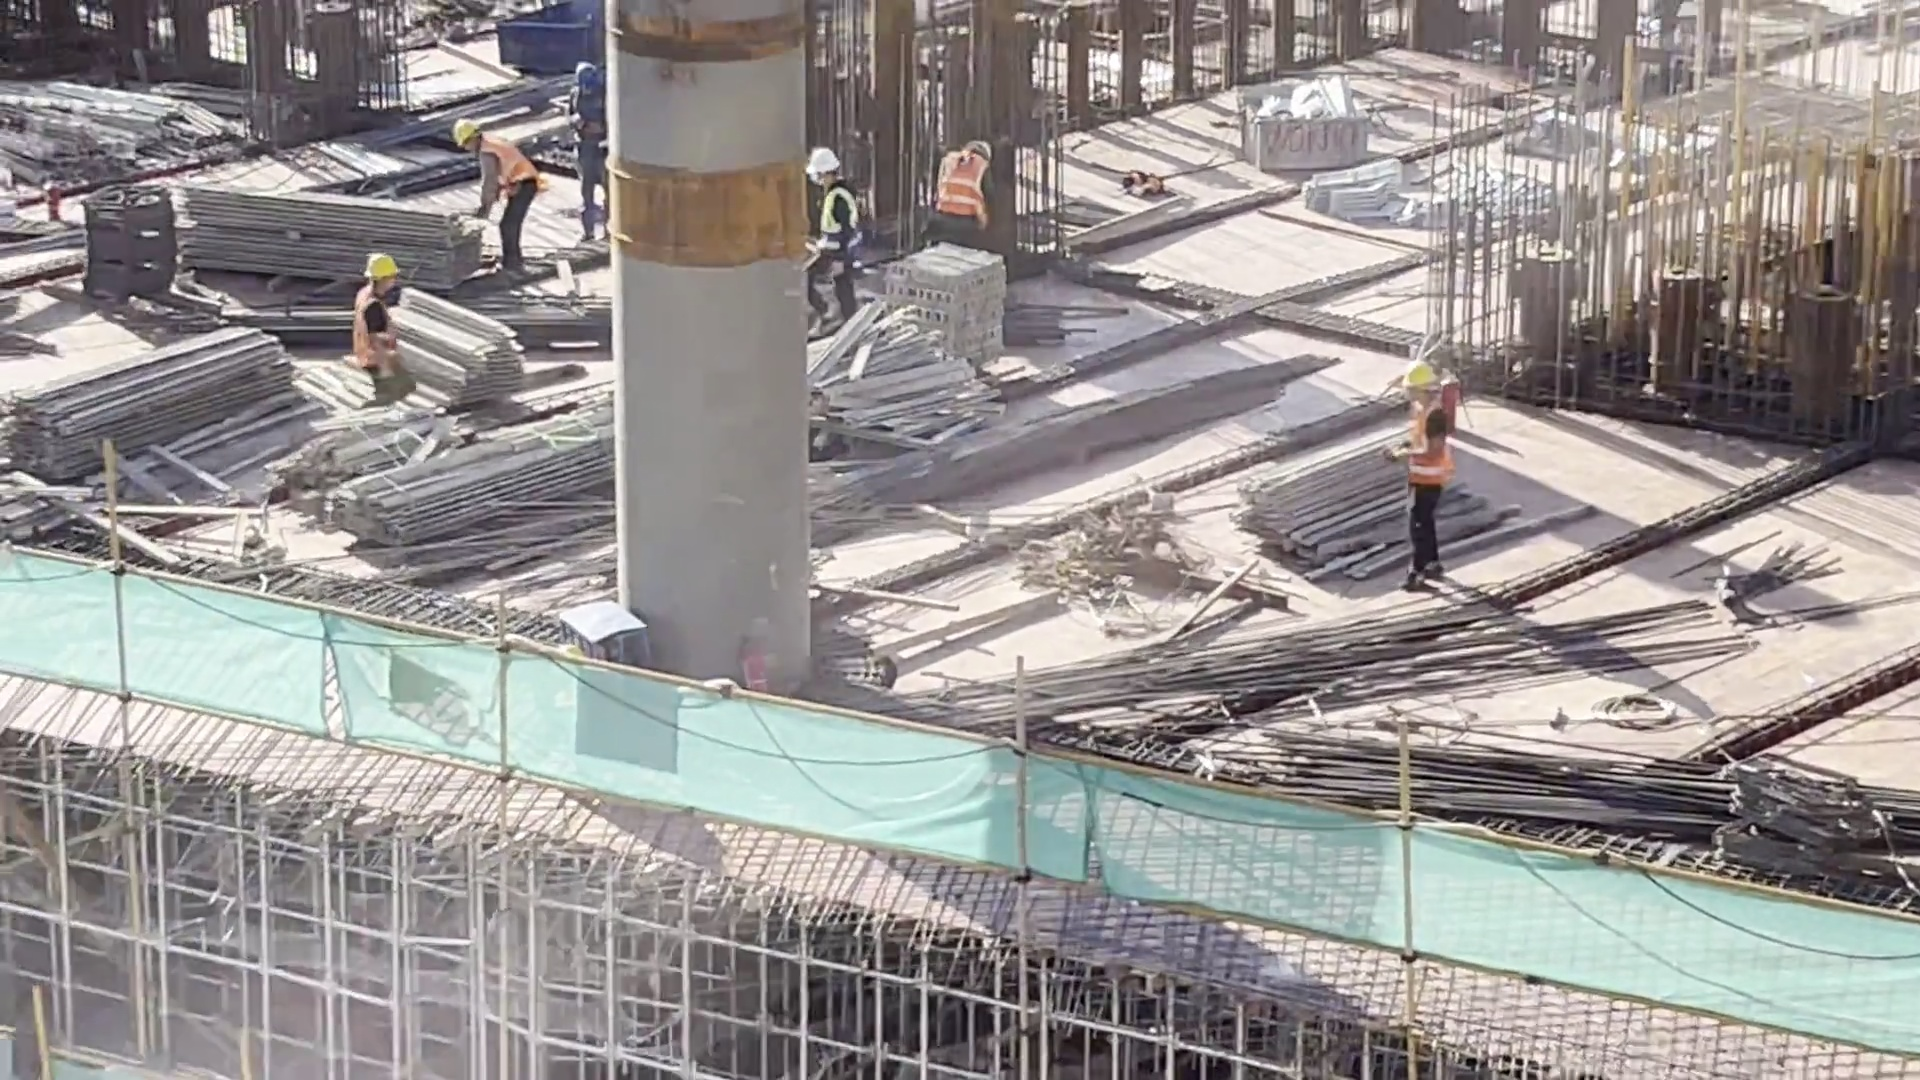helmet: (574, 62, 638, 106), (358, 246, 398, 297), (814, 147, 848, 187), (456, 121, 499, 151), (949, 137, 988, 159), (1403, 366, 1433, 392)
person: (1393, 348, 1451, 583), (809, 145, 874, 345), (561, 6, 614, 228), (478, 91, 531, 260), (936, 128, 988, 228), (348, 231, 376, 388)
vest: (1394, 397, 1446, 479), (823, 189, 859, 271), (491, 131, 531, 202), (363, 291, 396, 371), (953, 151, 989, 219), (581, 91, 611, 149)
